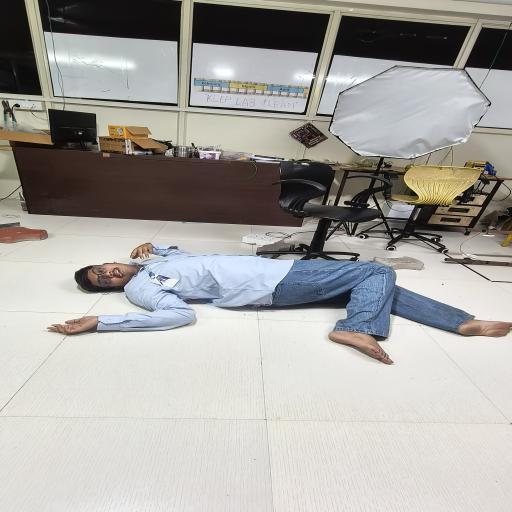survivor: (46, 242, 512, 364)
